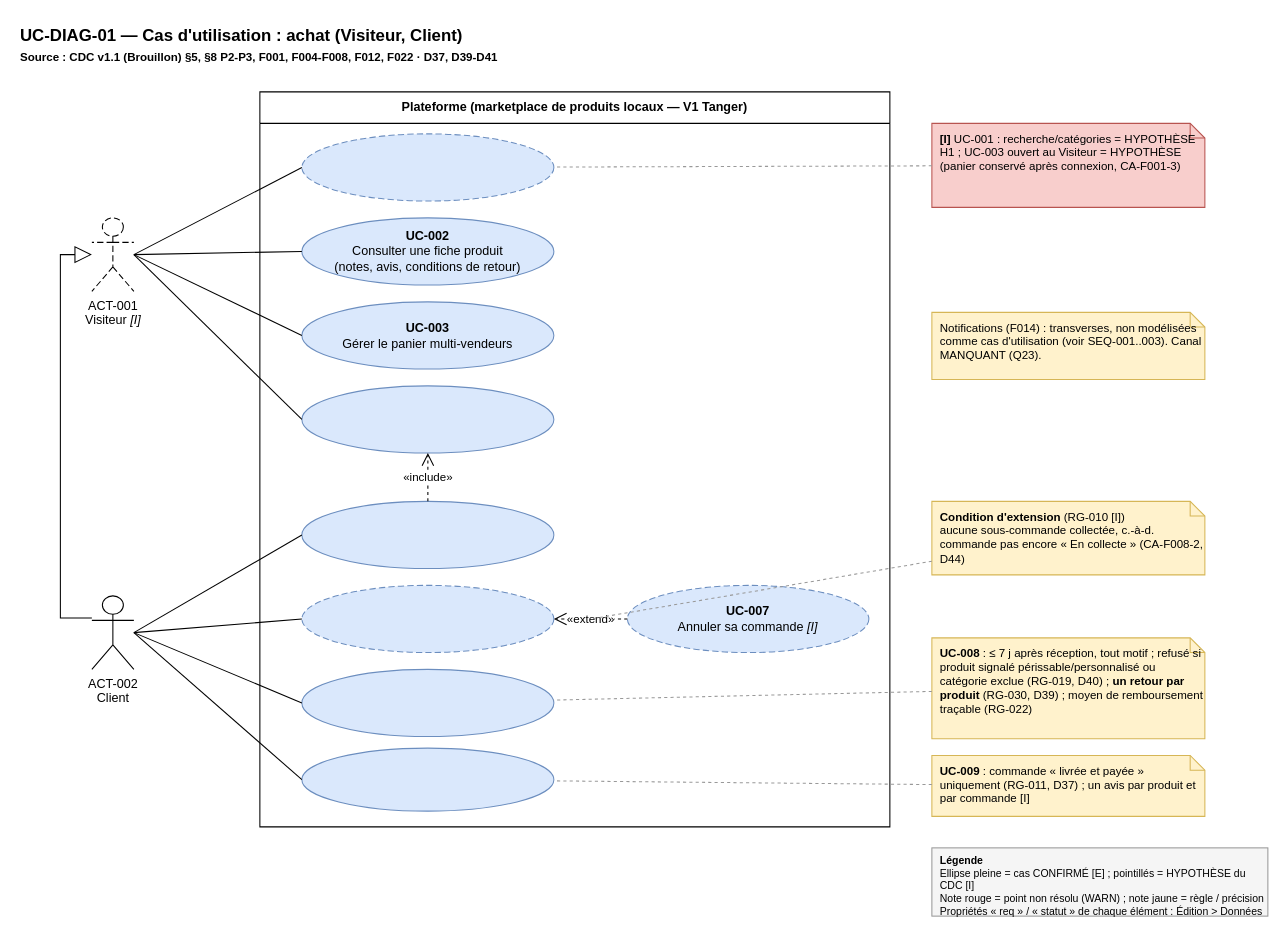
The diagram is 1286 pixels wide and 936 high, and some of its shapes have lost their labels. Each missing label, with the centre of its shape:
"UC-001 Consulter le catalogue (rechercher, filtrer par catégorie) [I]" goes at [427,167].
"UC-004 S'inscrire / se connecter (compte client)" goes at [427,419].
"UC-005 Passer commande (paiement à la livraison, Tanger)" goes at [427,534].
"UC-006 Suivre ses commandes [I]" goes at [427,618].
"UC-008 Demander le retour d'un produit" goes at [427,702].
"UC-009 Noter et commenter un produit reçu" goes at [427,779].
